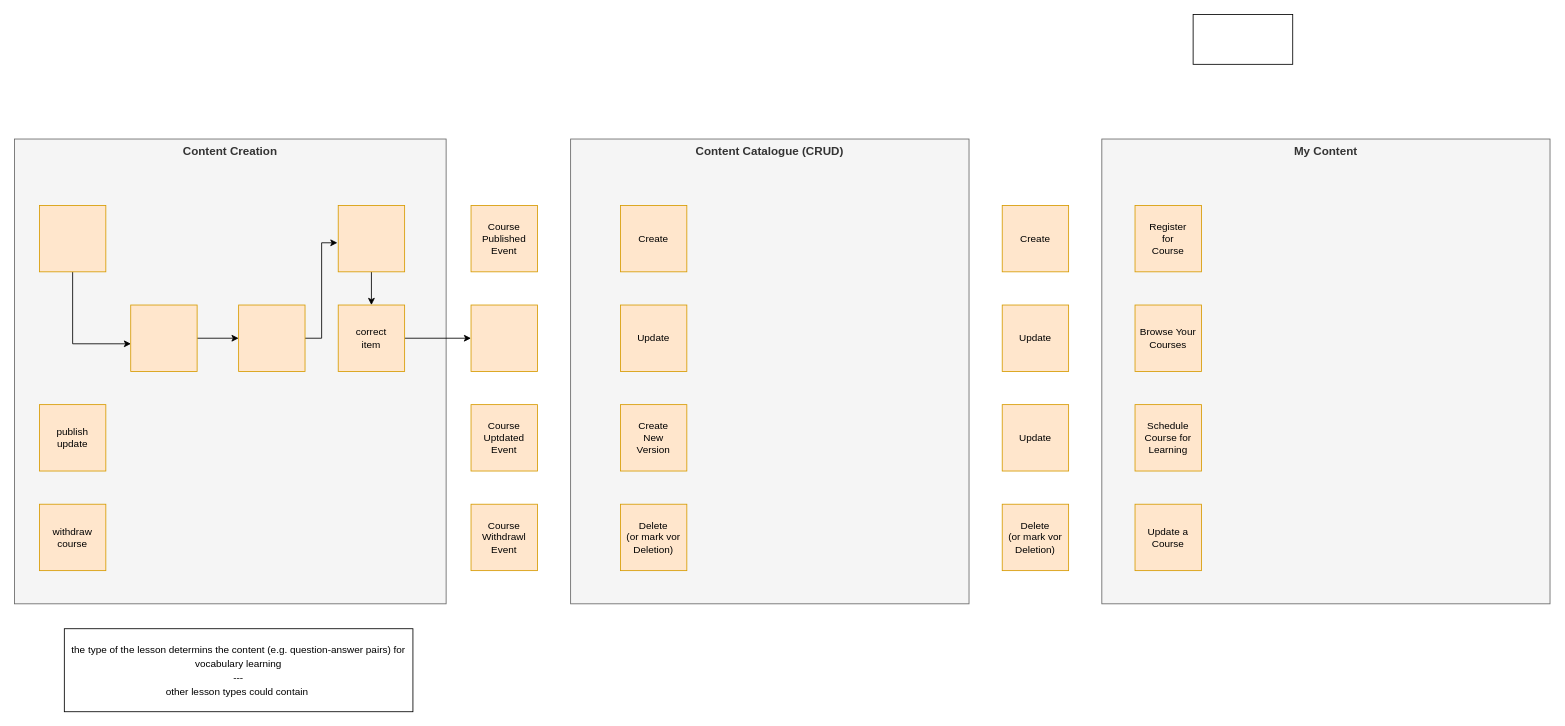
Some shapes in this 1565 by 726 pixel diagram are drawn without their labels. The centre of each missing label's shape, as x and y in pixels:
"create course" goes at (x=72, y=238).
"create item" goes at (x=271, y=337).
"create lesson" goes at (x=163, y=337).
"Item Correction Event" goes at (x=503, y=337).
"publish course" goes at (x=371, y=238).
